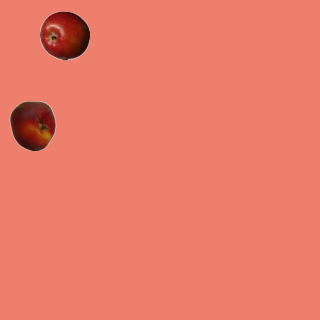Apple Braeburn: (39, 10, 89, 60)
Nectarine Flat: (7, 100, 57, 150)
